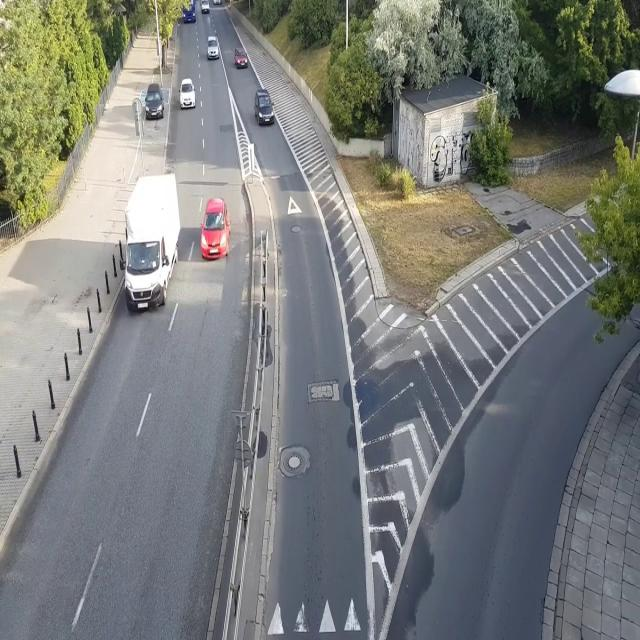car: (198, 195, 232, 262), (143, 83, 165, 120), (254, 91, 276, 126), (178, 78, 196, 111), (206, 36, 220, 60), (234, 46, 248, 69)
truck: (118, 174, 181, 312), (181, 0, 197, 24)
van: (200, 0, 210, 15)
